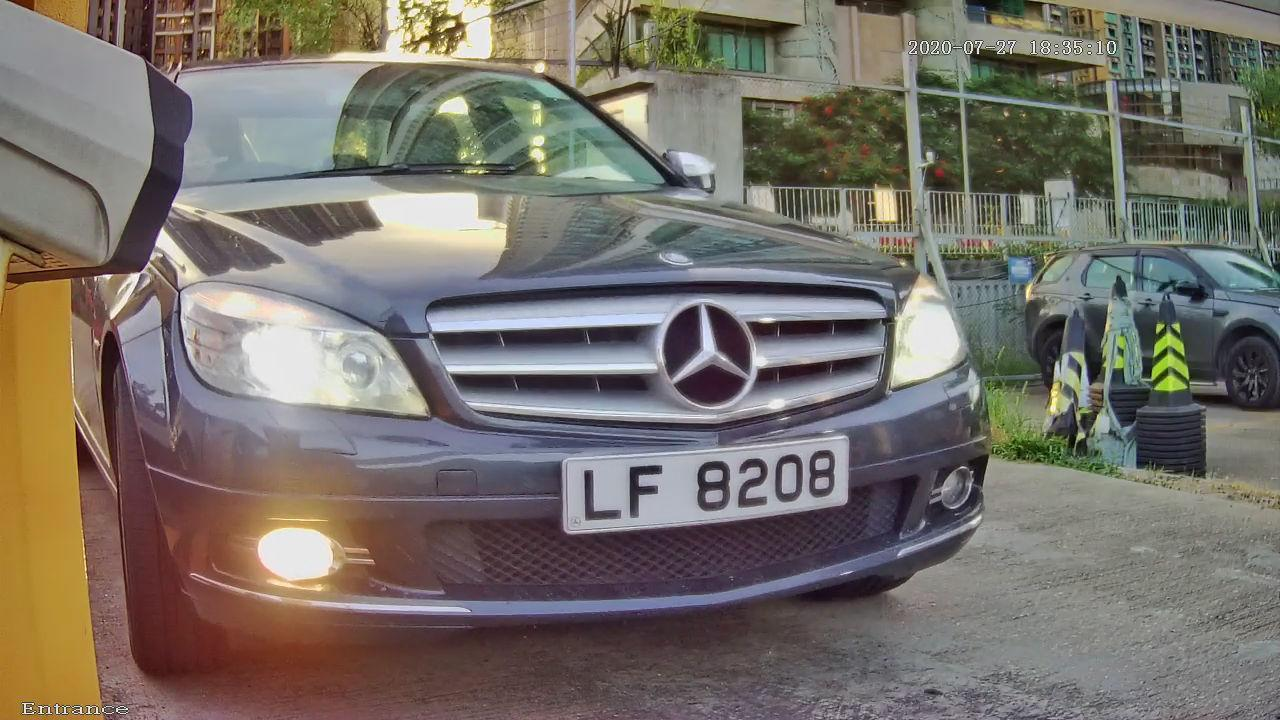privatecar: (80, 33, 1069, 663)
